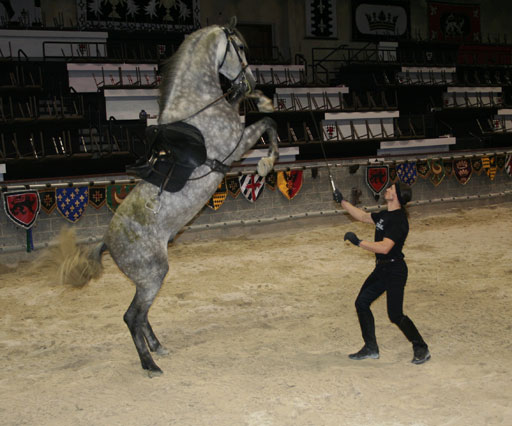Horse: (66, 17, 290, 387)
Person: (306, 166, 435, 378)
